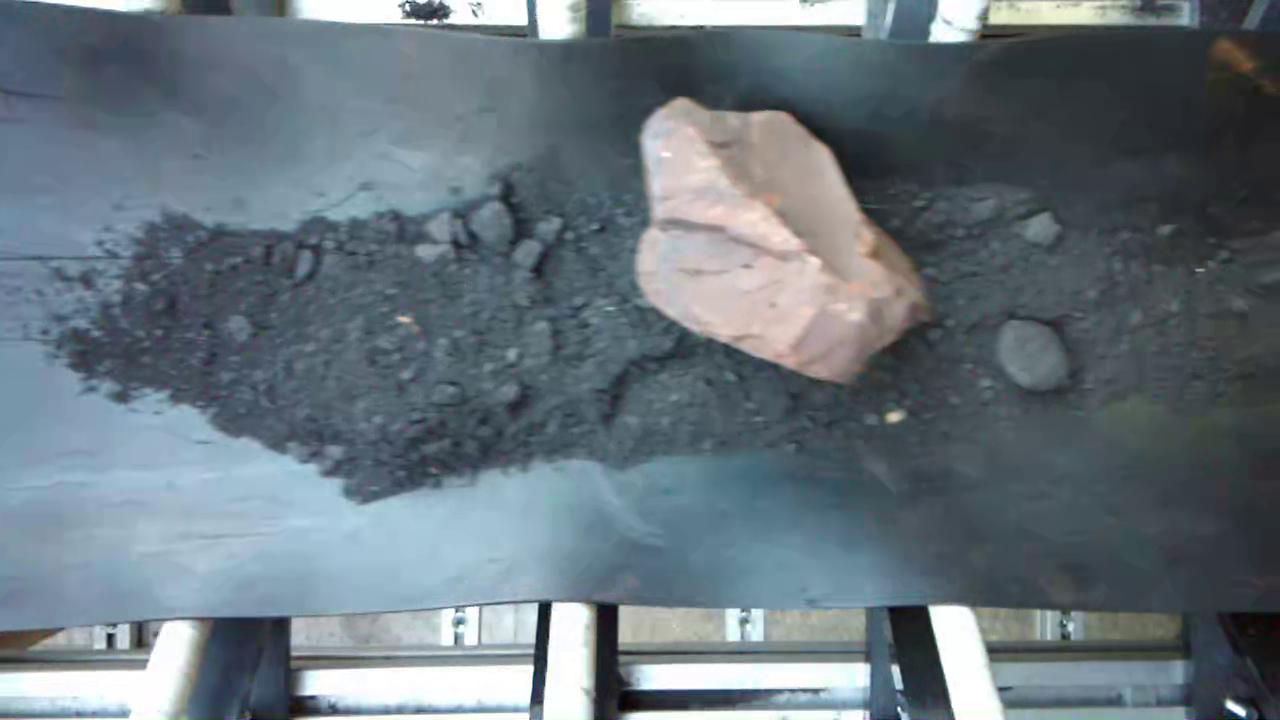conveyor: (0, 43, 1280, 603)
